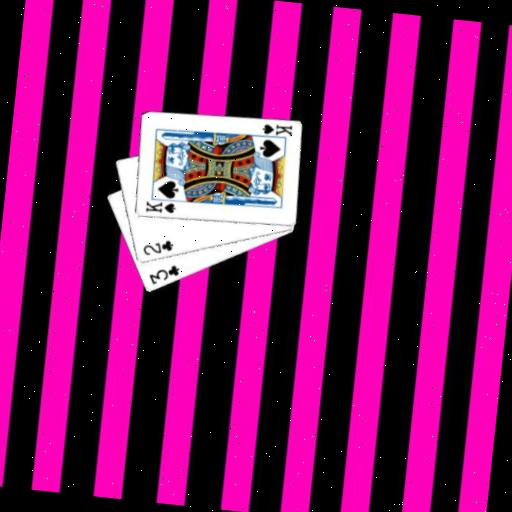2C: (139, 235, 175, 260)
3C: (145, 260, 181, 289)
KS: (256, 120, 294, 142), (142, 198, 177, 217)
